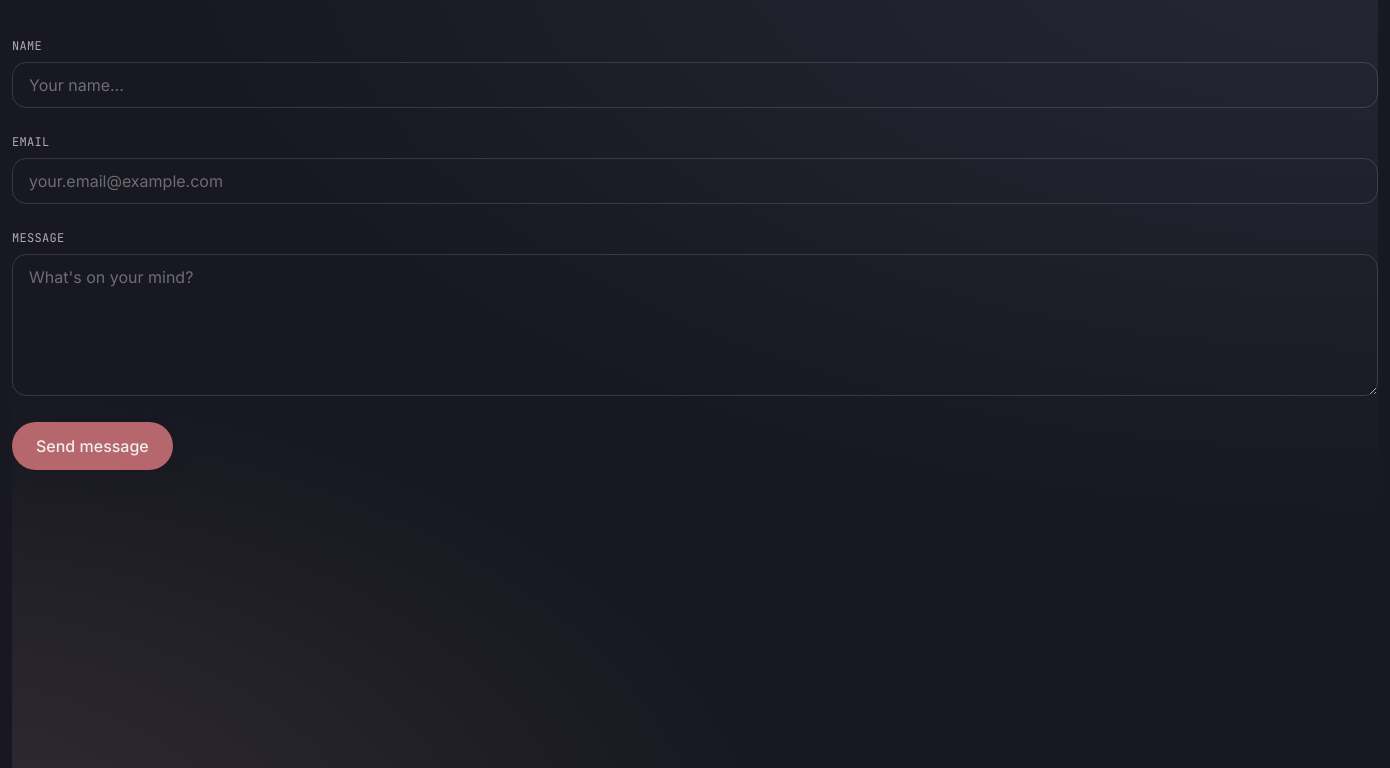
ContactForm › submits successfully with valid input
The width and height of the screenshot is (1390, 768).
Type "Channie" into the field labelled "Name" at point(695, 85), box [12,62,1378,108]
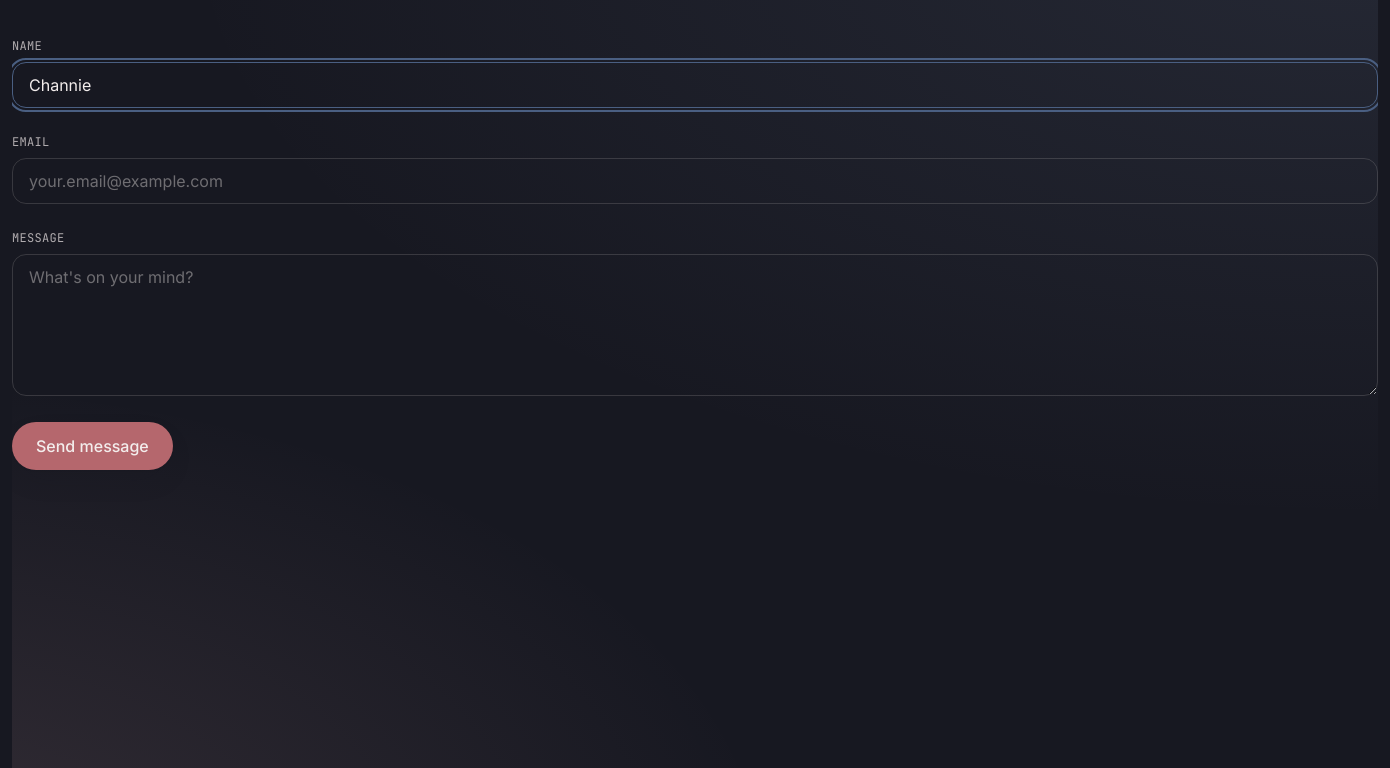
Type "channie@example.com" into the field labelled "Email" at point(695, 181), box [12,158,1378,204]
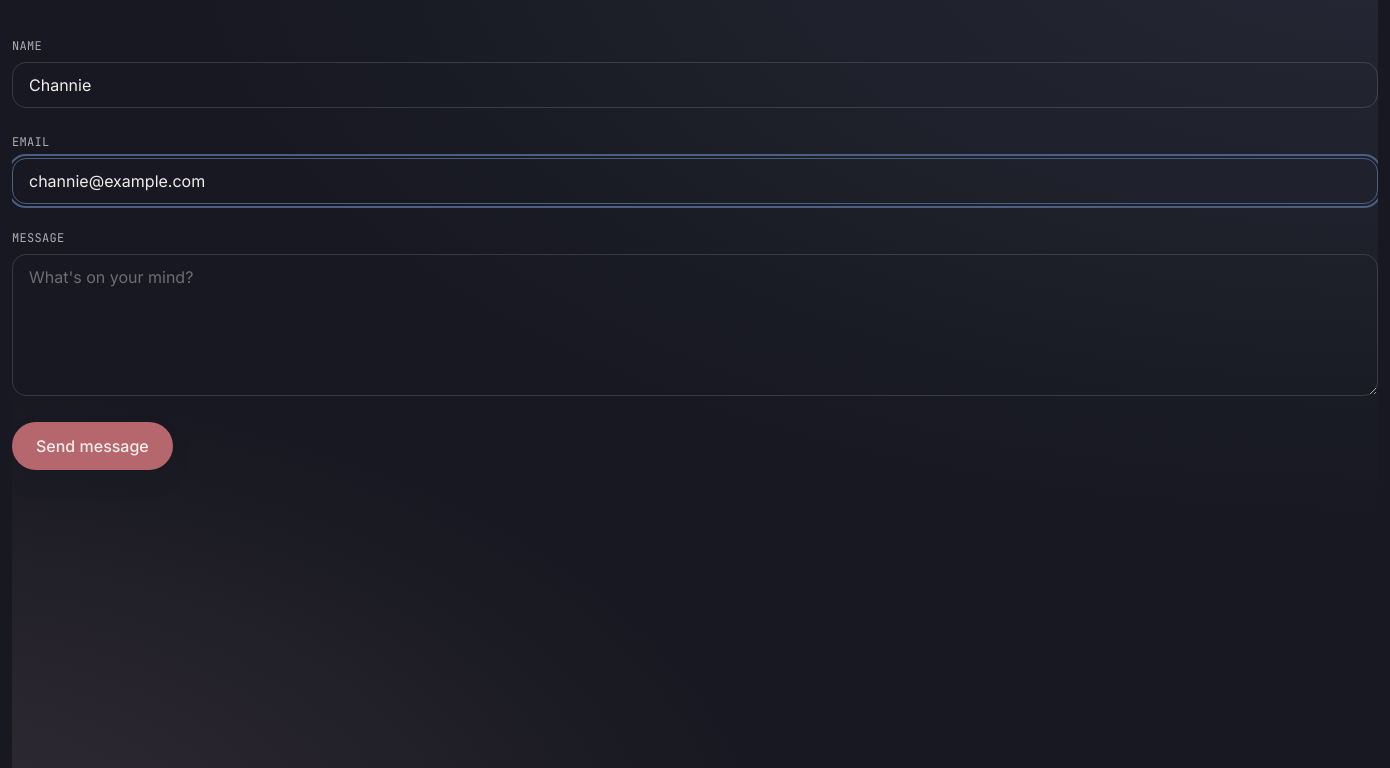
Type "Loved your portfolio, let's talk." into the text box labelled "Message" at point(695, 325), box [12,254,1378,396]
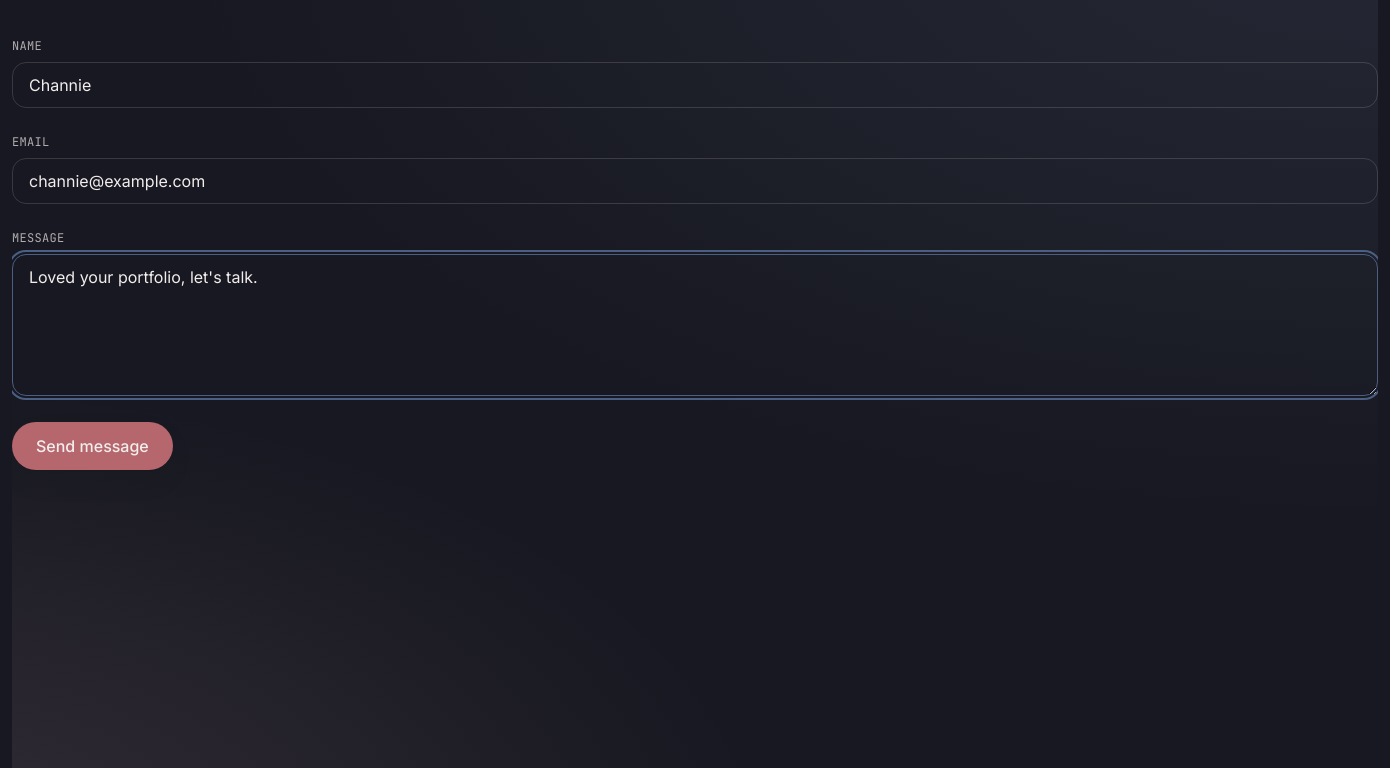
Click the button "Send message" at point(92, 446), box [12,422,173,470]
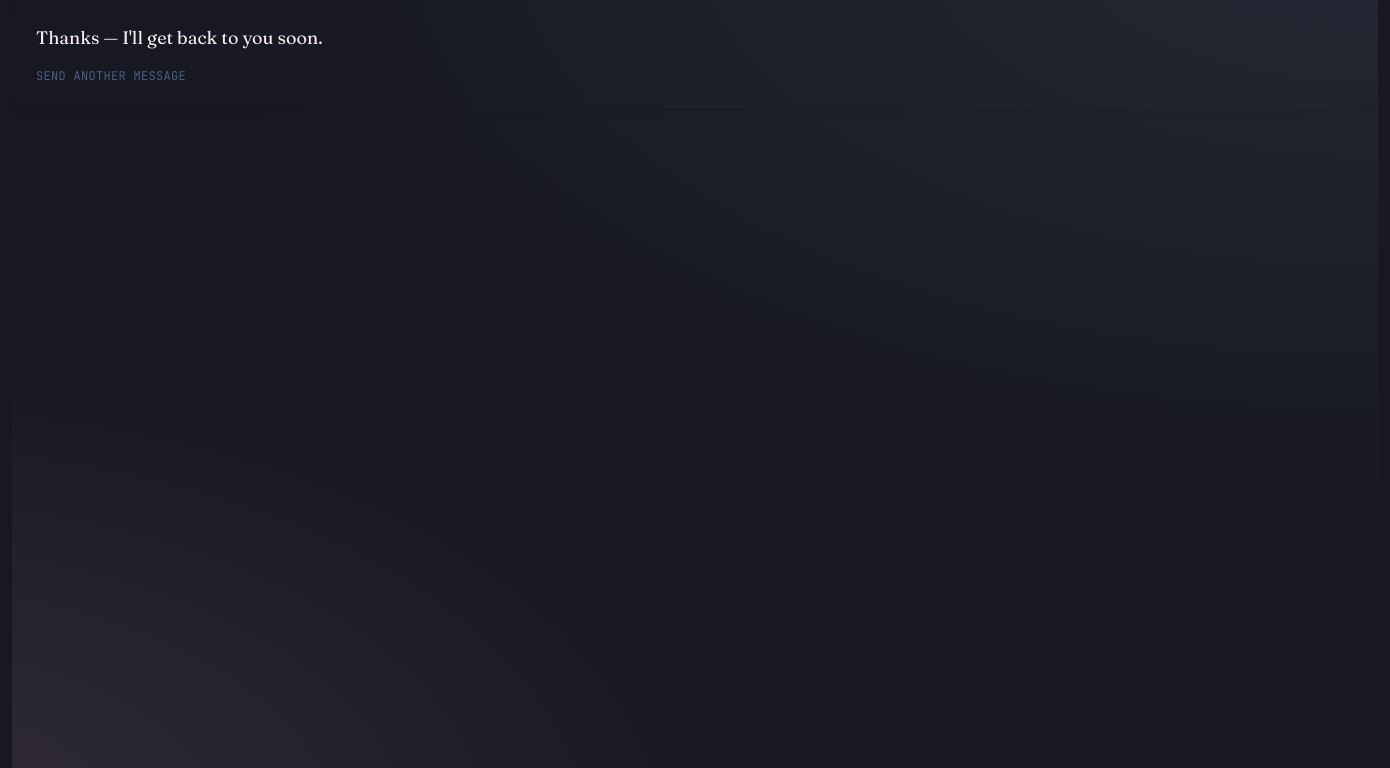
Expected: the message shows "get back to you", [36,26,322,49]
